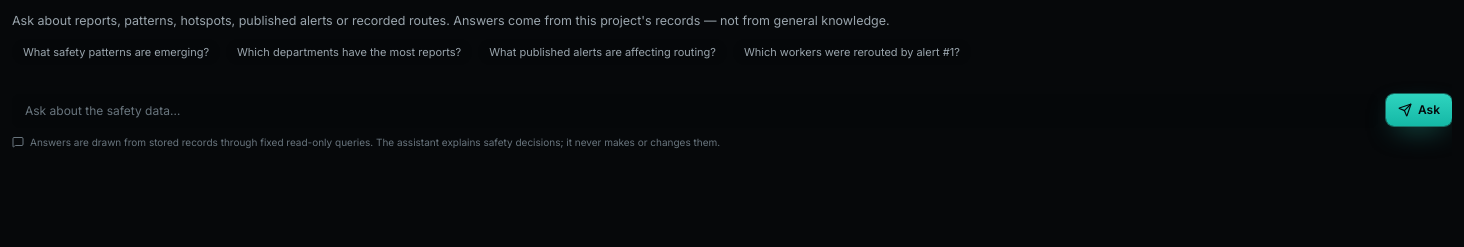
it: a grounded answer › names the queries that produced it
The image size is (1464, 247).
Type "Which workers were rerouted?" into the field named "Ask the safety assistant".
click(695, 111); type("Which workers were rerouted?")  # box [12,94,1378,128]
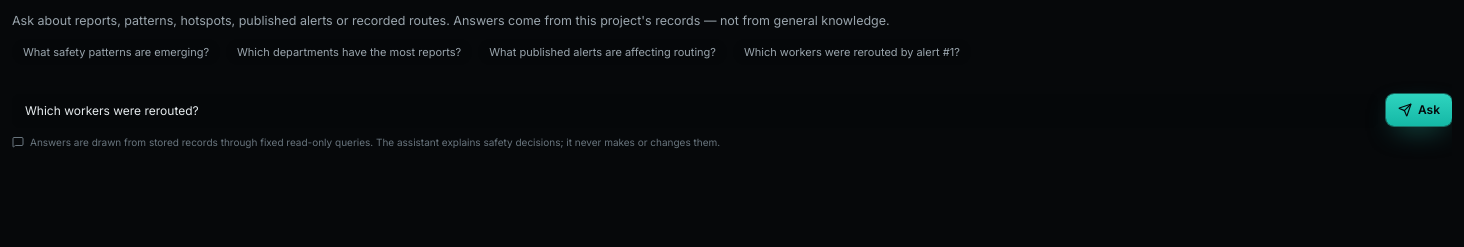
Click the button "Ask".
click(1419, 110)  # box [1386,94,1452,126]
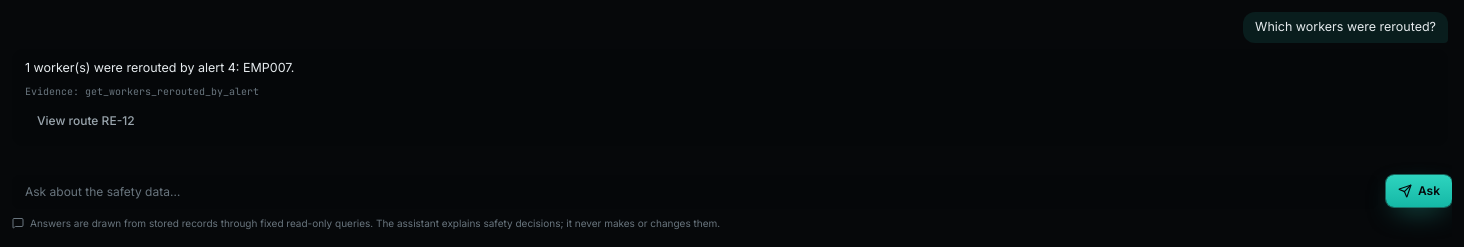
expect the text "Evidence: get_workers_rerouted_by_alert" is shown: met, box [25,85,259,98]
